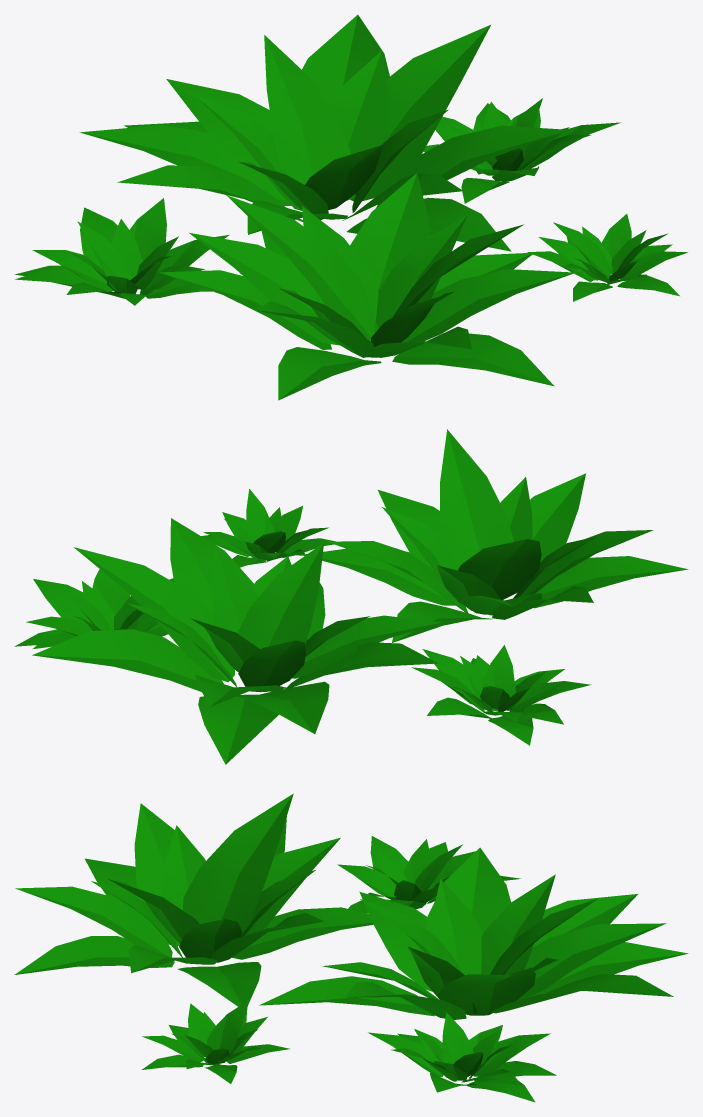
Rendered from SM_Bush_002_LOD3.fbx.
The picture shows the model from 3 angles, top to bottom: view 1: azimuth 30°, elevation 25°; view 2: azimuth 150°, elevation 25°; view 3: azimuth 270°, elevation 25°; orthographic projection. The views are drawn at different scales.
Visible parts, largest first — view 1: Bush_02; view 2: Bush_02; view 3: Bush_02.
Boxes of the visible parts, bbox=[...] form: Bush_02: bbox=[14, 15, 687, 400]; Bush_02: bbox=[14, 429, 688, 764]; Bush_02: bbox=[14, 793, 688, 1102].
Size of the model in its own units: 719 by 159 by 780.
